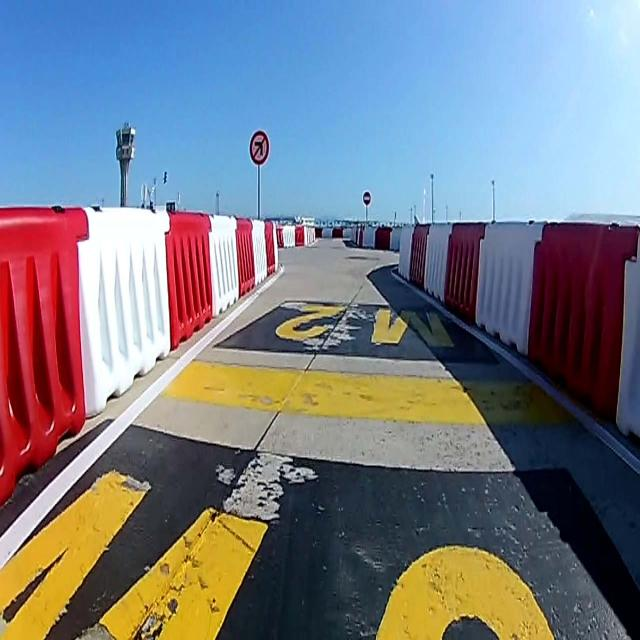girisyok: (362, 188, 374, 208)
soladonulmez: (248, 129, 270, 163)
